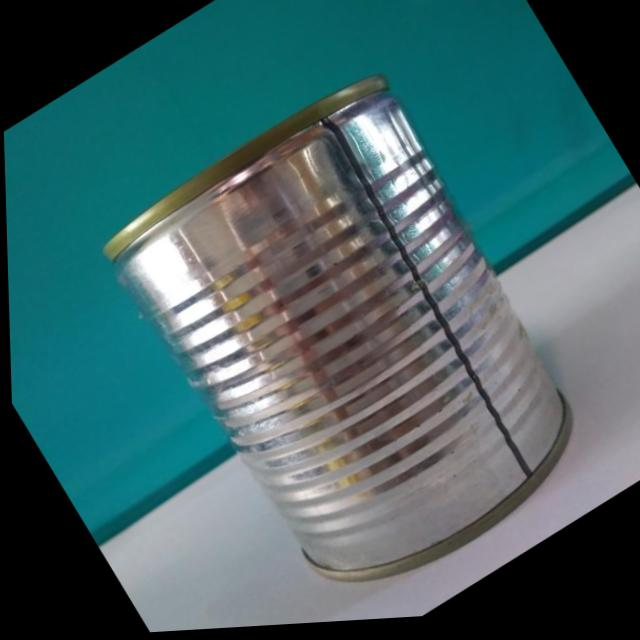metal: (103, 193, 639, 628)
